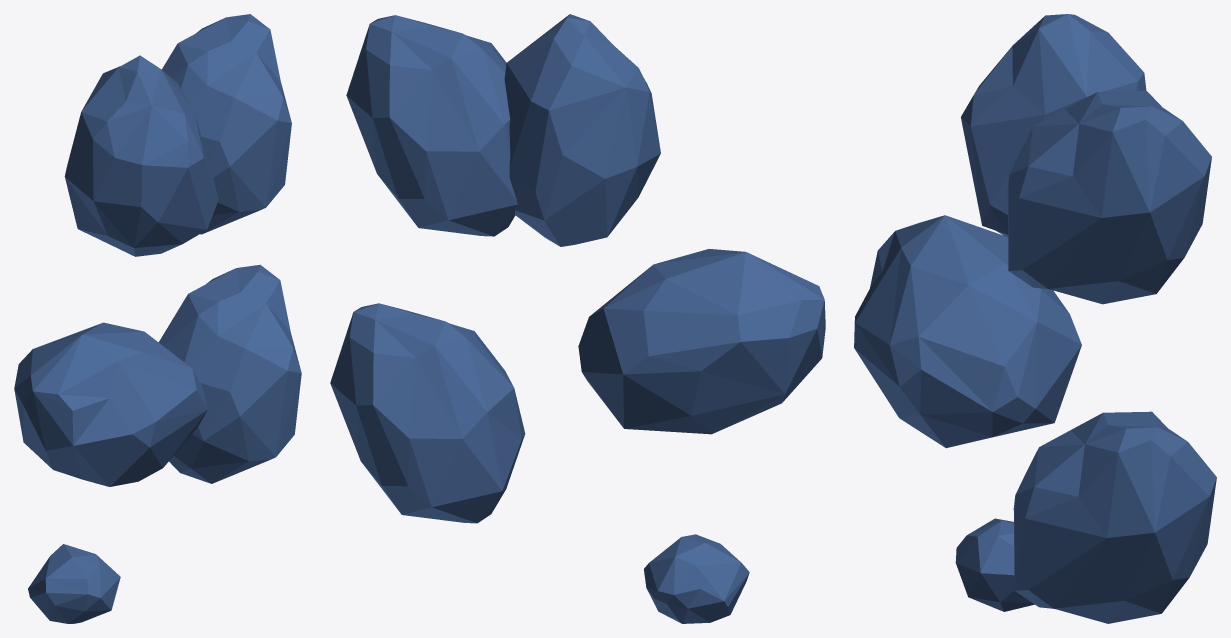
The model's file is tree-winter-leaves-11-041.glb.
3 views of the same model, side by side, from view 1: azimuth 30°, elevation 25°; view 2: azimuth 150°, elevation 25°; view 3: azimuth 270°, elevation 25° (orthographic). The views are drawn at different scales.
Visible parts, largest first — view 1: TREE 11.005_187; view 2: TREE 11.005_187; view 3: TREE 11.005_187.
Boxes of the visible parts, box(x1,y1,x2,y2) form: TREE 11.005_187: box(14, 14, 301, 623); TREE 11.005_187: box(330, 14, 825, 623); TREE 11.005_187: box(854, 14, 1216, 623).
Size of the model in its own units: 1.25 by 1.85 by 0.9391.
